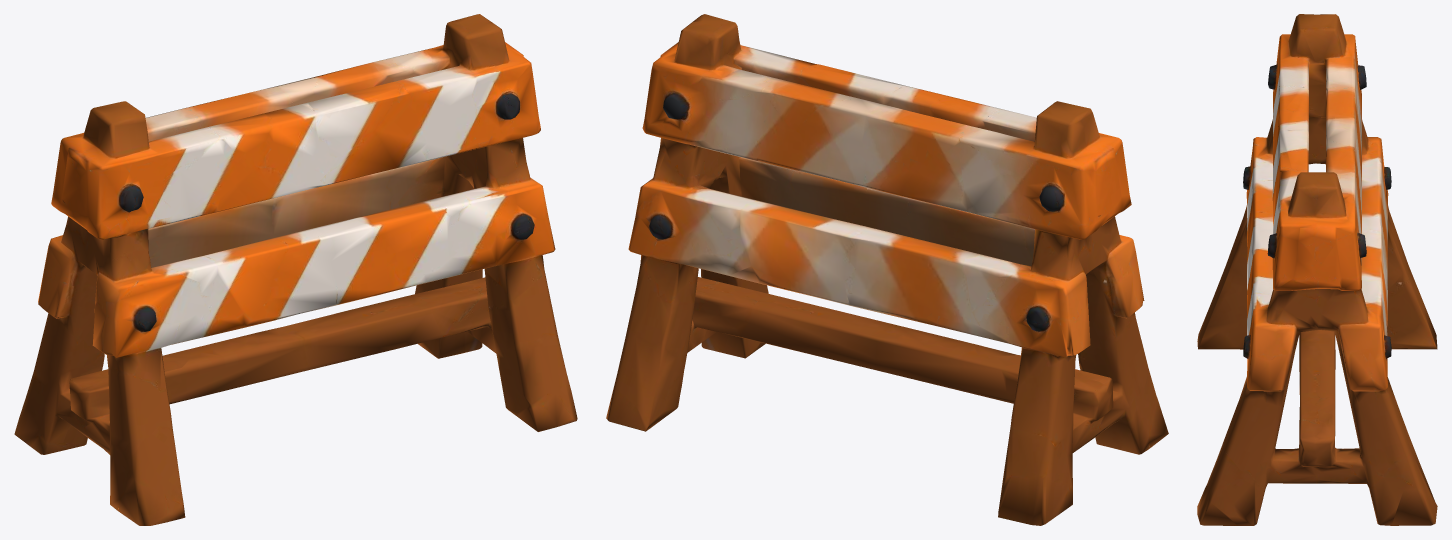
The model's file is cerquinha.glb.
3 views of the same model, side by side, from view 1: azimuth 30°, elevation 25°; view 2: azimuth 150°, elevation 25°; view 3: azimuth 270°, elevation 25° (orthographic). The views are drawn at different scales.
Size of the model in its own units: 1.9 by 1.46 by 0.9674.
Materials: 1 (1 with a texture image).
